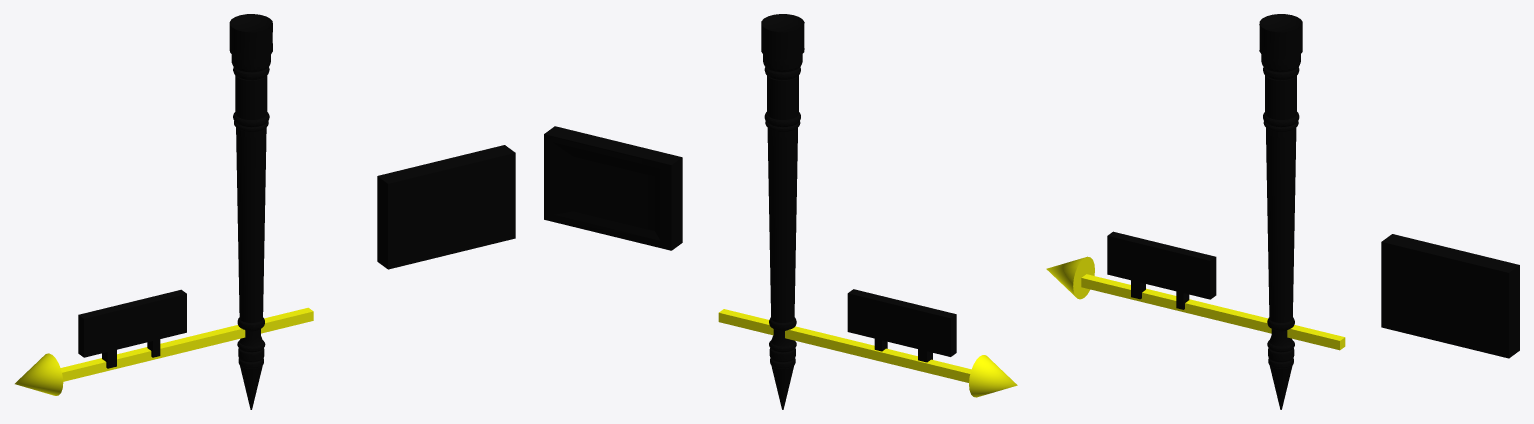
The model's file is guidepost.obj.
3 views of the same model, side by side, from view 1: azimuth 30°, elevation 25°; view 2: azimuth 150°, elevation 25°; view 3: azimuth 330°, elevation 25° (orthographic).
Visible parts, largest first — view 1: pCube3 group4, pCylinder1, pCube2, pCube1, pCone1; view 2: pCube3 group4, pCylinder1, pCube2, pCube1, pCone1; view 3: pCube3 group4, pCylinder1, pCube2, pCube1, pCone1.
Part boxes in pixels (x1,y1,x2,y2): pCube3 group4: [377, 145, 515, 269]; pCylinder1: [229, 14, 272, 409]; pCube2: [78, 289, 186, 368]; pCube1: [60, 307, 313, 381]; pCone1: [15, 353, 63, 395]; pCube3 group4: [544, 126, 682, 250]; pCylinder1: [761, 14, 804, 409]; pCube2: [847, 289, 956, 362]; pCube1: [718, 309, 971, 382]; pCone1: [969, 355, 1017, 397]; pCube3 group4: [1381, 234, 1519, 358]; pCylinder1: [1259, 14, 1302, 409]; pCube2: [1107, 231, 1216, 309]; pCube1: [1081, 274, 1345, 350]; pCone1: [1046, 256, 1094, 299].
Size of the model in its own units: 42.94 by 32.89 by 4.66.
